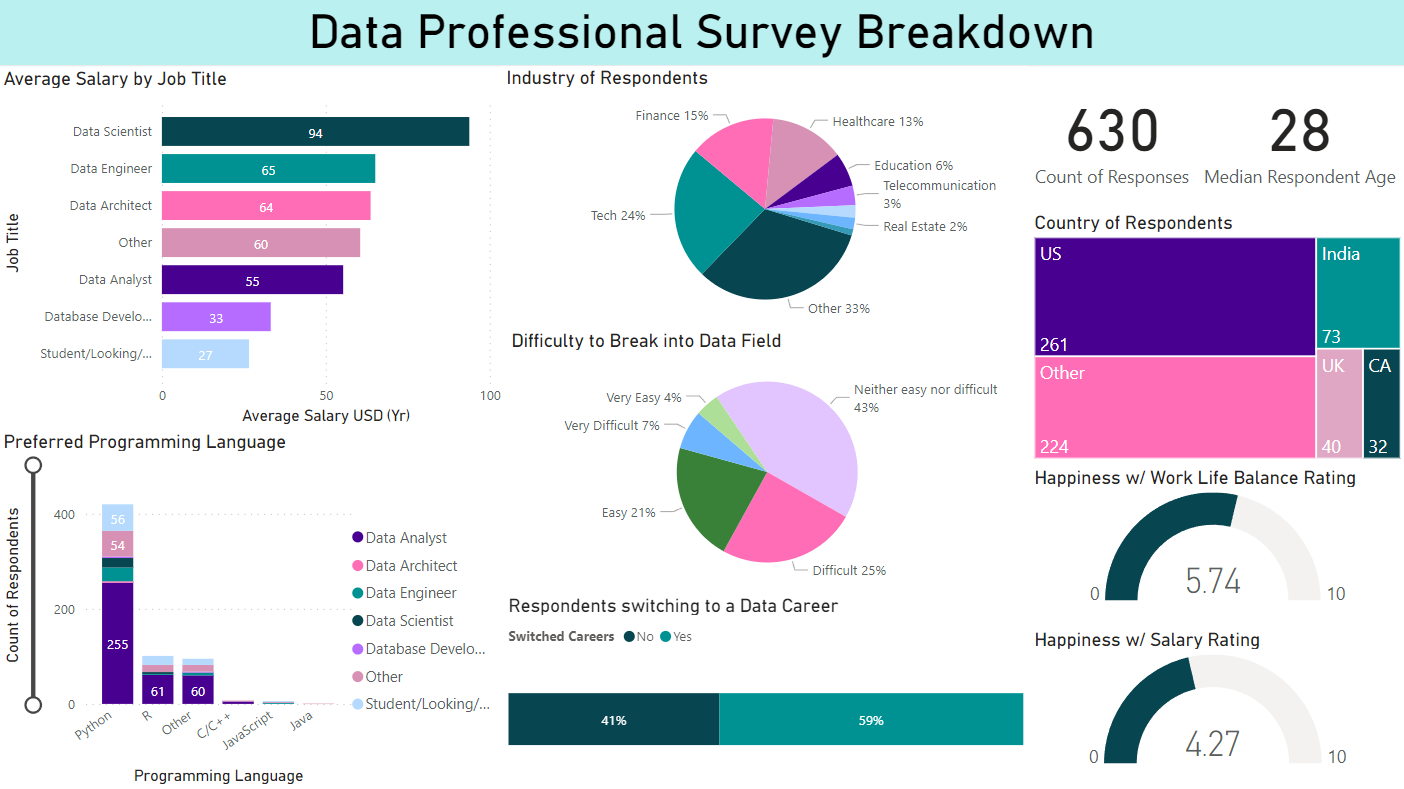

What the dashboard file says about the page in this screenshot:
{"tool":"powerbi","page":{"name":"Dashboard 1","canvas":[1280,720],"ordinal":0},"visuals":[{"type":"textbox","box":[0,0,1280,62],"z":0},{"type":"card","fields":{"Values":["Count(Data Professional Survey.Unique ID)"]},"box":[937,70,151,108],"z":1000},{"type":"card","fields":{"Values":["Median(Data Professional Survey.Q10 - Current Age)"]},"box":[1086,70,194,108],"z":2000},{"type":"barChart","title":"Average Salary by Job Title","fields":{"Category":["Data Professional Survey.Q1 - Which Title Best Fits your Current Role?.1"],"Series":["Data Professional Survey.Q1 - Which Title Best Fits your Current Role?.1"],"Y":["Avg(Data Professional Survey.Average Salary (Yr))"]},"box":[0,63,462,330],"z":3000},{"type":"columnChart","title":"Preferred Programming Language","fields":{"Category":["Data Professional Survey.Q5 - Favorite Programming Language.1"],"Y":["CountNonNull(Data Professional Survey.Unique ID)"],"Series":["Data Professional Survey.Q1 - Which Title Best Fits your Current Role?.1"]},"box":[0,393,462,327],"z":4000},{"type":"treemap","title":"Country of Respondents","fields":{"Group":["Data Professional Survey.Q11 - Which Country do you live in?.1"],"Values":["CountNonNull(Data Professional Survey.Q11 - Which Country do you live in?.1)"]},"box":[937.3,193.6,342.7,230],"z":5000},{"type":"gauge","title":"Happiness w/ Work Life Balance Rating","fields":{"Y":["Avg(Data Professional Survey.Q6 - How Happy are you in your Current Position with the following? (Work/Life Balance))"],"MinValue":["Min(Data Professional Survey.Q6 - How Happy are you in your Current Position with the following? (Work/Life Balance))1"],"MaxValue":["Max(Data Professional Survey.Q6 - How Happy are you in your Current Position with the following? (Work/Life Balance))2"]},"box":[937,425,343,132],"z":6000},{"type":"gauge","title":"Happiness w/ Salary Rating","fields":{"Y":["Avg(Data Professional Survey.Q6 - How Happy are you in your Current Position with the following? (Salary))"],"MinValue":["Min(Data Professional Survey.Q6 - How Happy are you in your Current Position with the following? (Salary))"],"MaxValue":["Max(Data Professional Survey.Q6 - How Happy are you in your Current Position with the following? (Salary))"]},"box":[937,573,343,133],"z":7000},{"type":"pieChart","title":"Difficulty to Break into Data Field","fields":{"Category":["Data Professional Survey.Q7 - How difficult was it for you to break into Data?"],"Y":["CountNonNull(Data Professional Survey.Q7 - How difficult was it for you to break into Data?)"]},"box":[462,301,475,241],"z":8000},{"type":"pieChart","title":"Industry of Respondents","fields":{"Category":["Data Professional Survey.Q4 - What Industry do you work in?.1"],"Y":["CountNonNull(Data Professional Survey.Q4 - What Industry do you work in?.1)"]},"box":[457,62,480,241],"z":9000},{"type":"hundredPercentStackedBarChart","title":"Respondents switching to a Data Career","fields":{"Series":["Data Professional Survey.Q2 - Did you switch careers into Data?"],"Y":["CountNonNull(Data Professional Survey.Q2 - Did you switch careers into Data?)"]},"box":[459,542,478,178],"z":10000}]}

Visuals, with their boxes in screenshot pixels (x1, y1, x2, y2), scaled from the page's 1280x720 canvas onto the 1404x789 screenshot:
textbox: box(0, 0, 1403, 68)
card - Count(Data Professional Survey.Unique ID): box(1028, 77, 1193, 195)
card - Median(Data Professional Survey.Q10 - Current Age): box(1191, 77, 1403, 195)
"Average Salary by Job Title" barChart: box(0, 69, 507, 431)
"Preferred Programming Language" columnChart: box(0, 431, 507, 788)
"Country of Respondents" treemap: box(1028, 212, 1403, 464)
"Happiness w/ Work Life Balance Rating" gauge: box(1028, 466, 1403, 610)
"Happiness w/ Salary Rating" gauge: box(1028, 628, 1403, 774)
"Difficulty to Break into Data Field" pieChart: box(507, 330, 1028, 594)
"Industry of Respondents" pieChart: box(501, 68, 1028, 332)
"Respondents switching to a Data Career" hundredPercentStackedBarChart: box(503, 594, 1028, 788)
